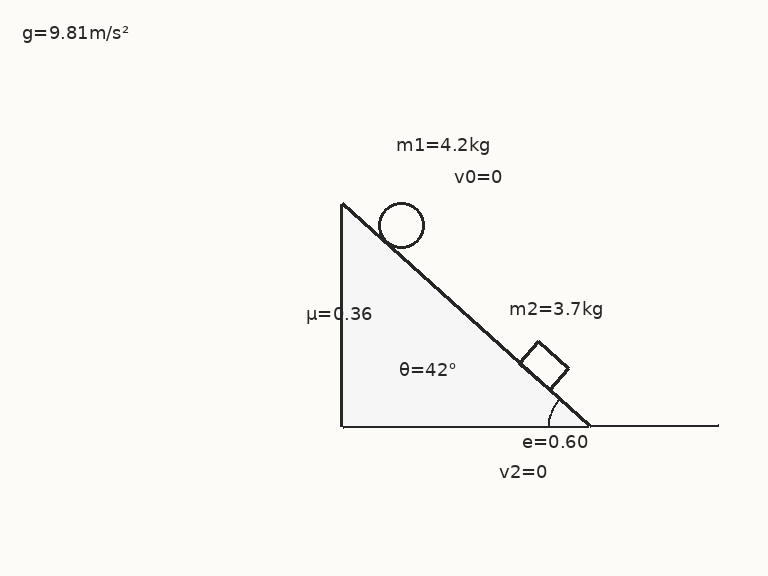ball: (376, 200, 426, 250)
block: (517, 340, 570, 392)
ramp: (340, 201, 591, 428)
